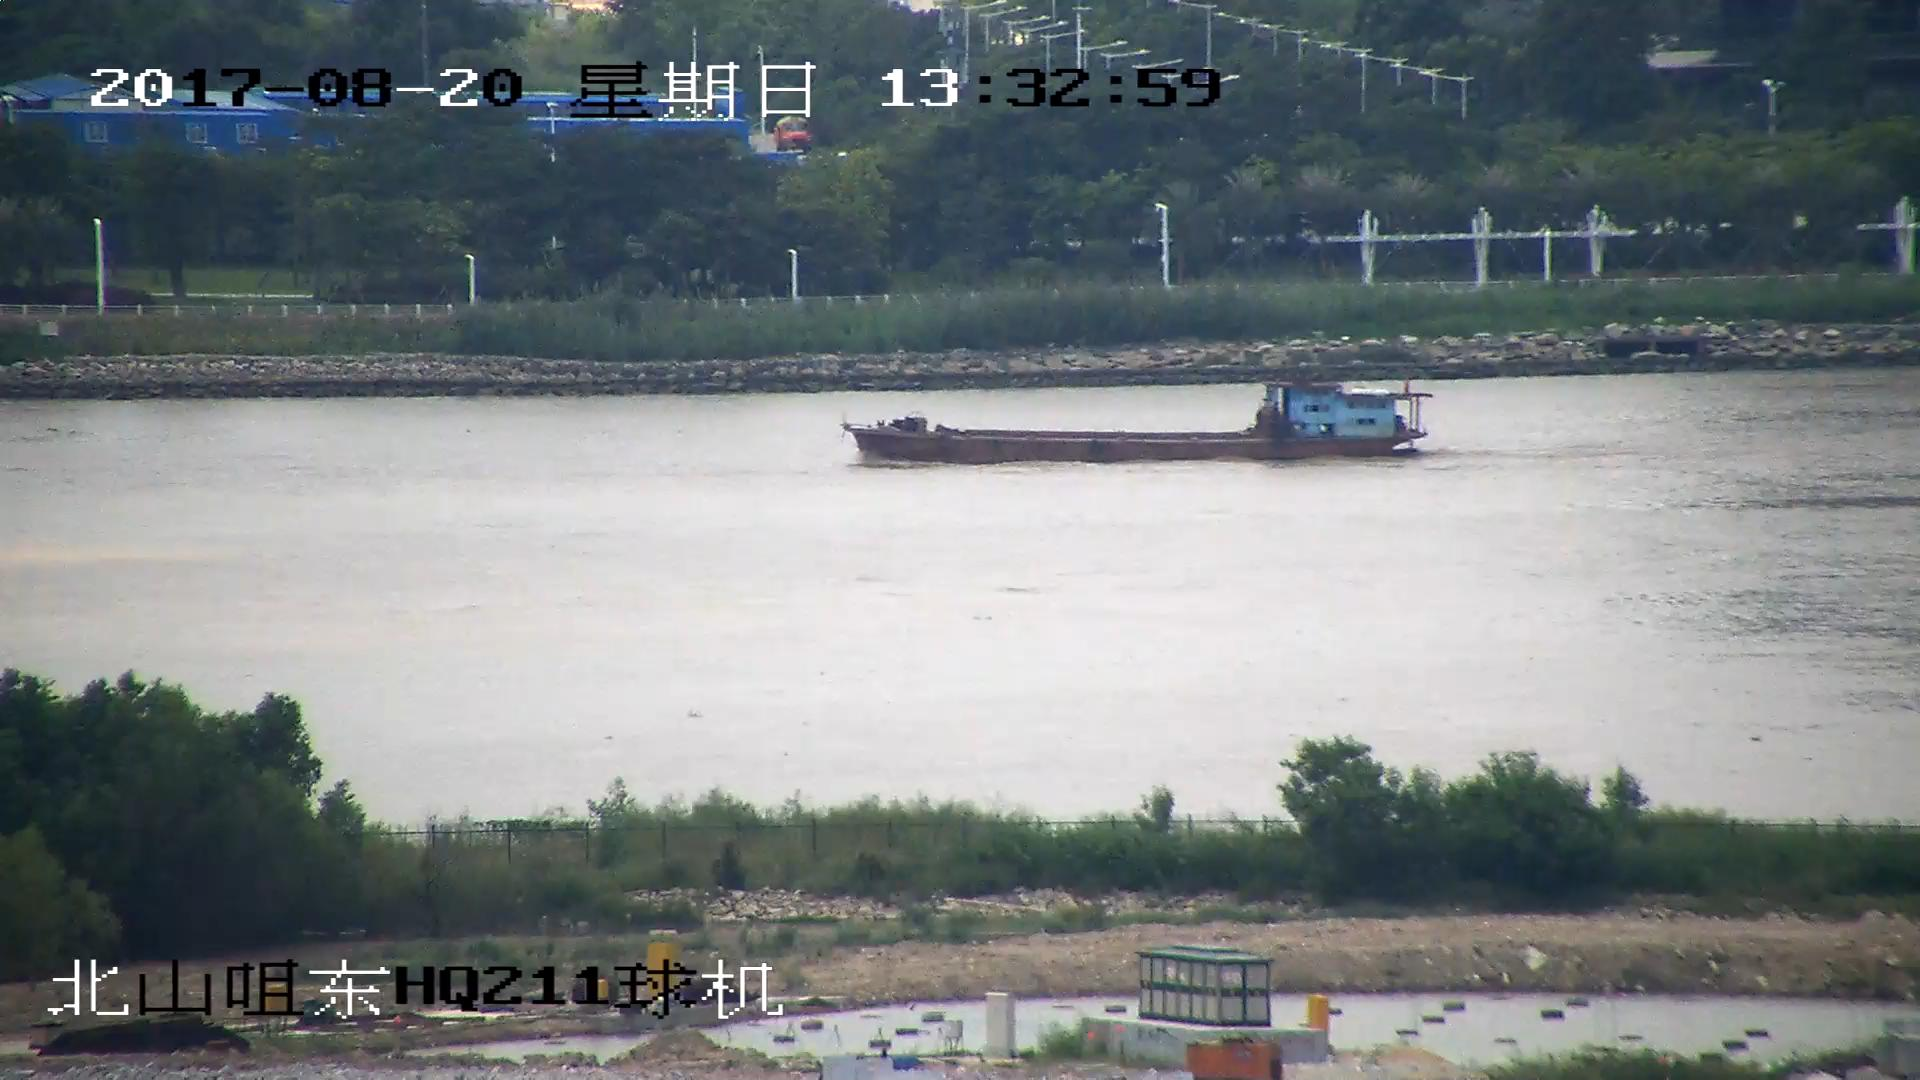bulk cargo carrier: (840, 380, 1424, 462)
